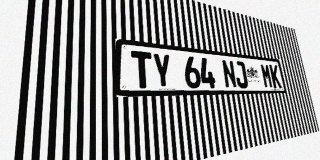4: (198, 57, 216, 88)
6: (183, 56, 202, 88)
J: (233, 61, 249, 88)
K: (269, 64, 282, 88)
M: (260, 63, 273, 88)
N: (221, 60, 237, 88)
T: (131, 50, 153, 88)
Y: (152, 53, 173, 88)
